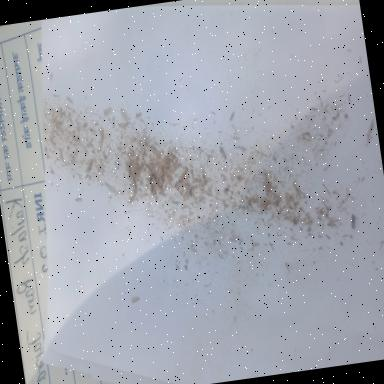pbw: (118, 107, 128, 124), (103, 106, 112, 116), (130, 296, 140, 304)
